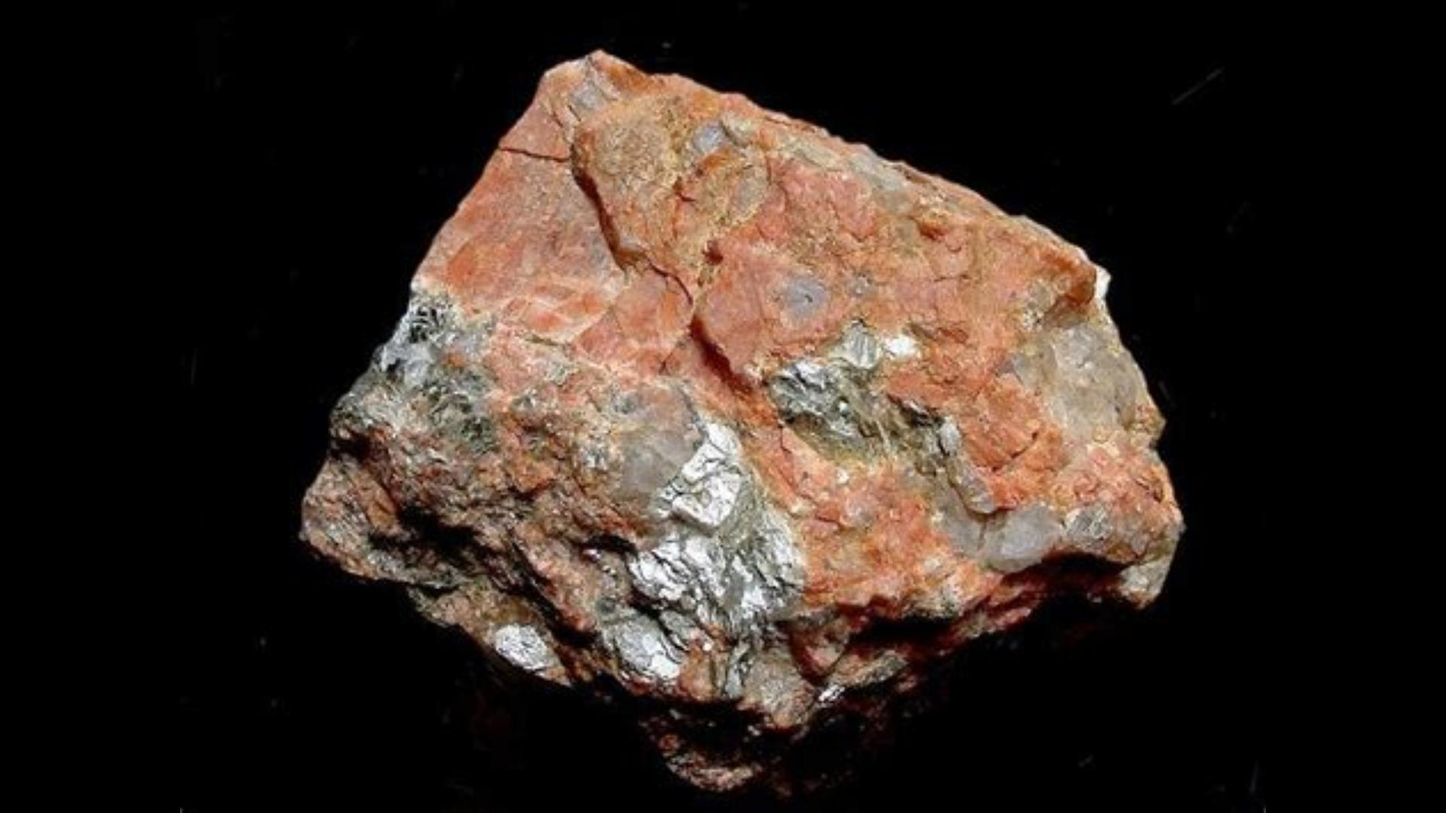rock: (304, 53, 1179, 786)
